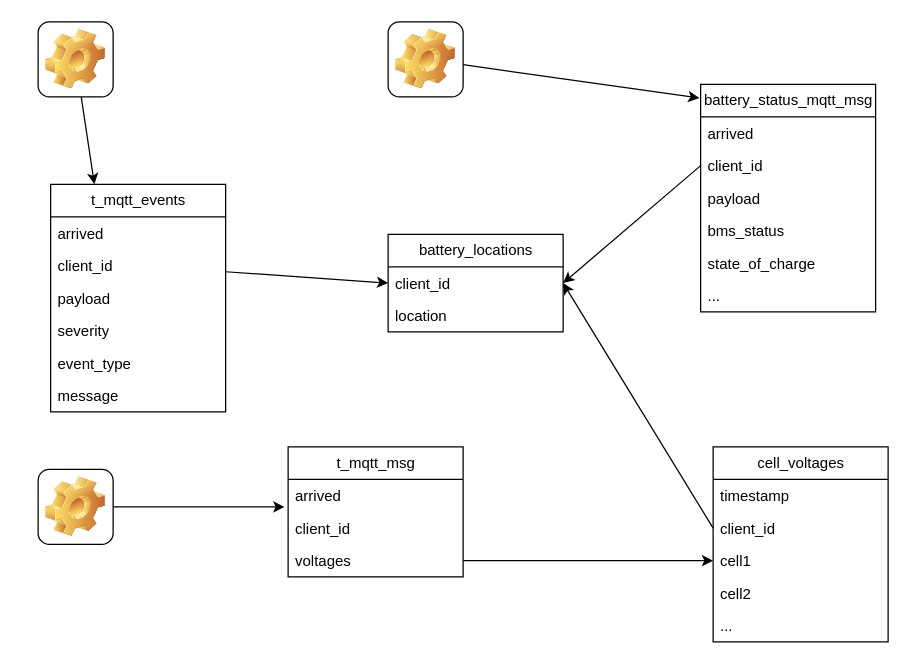
This 910x668 diagram has some shape labels left out. Here are the shapes that lost their labels. From the top down, the centre of each, then its label:
At [75,59]: "Topic events".
At [425,59]: "Topic info".
At [75,506]: "Topic spec_data".
